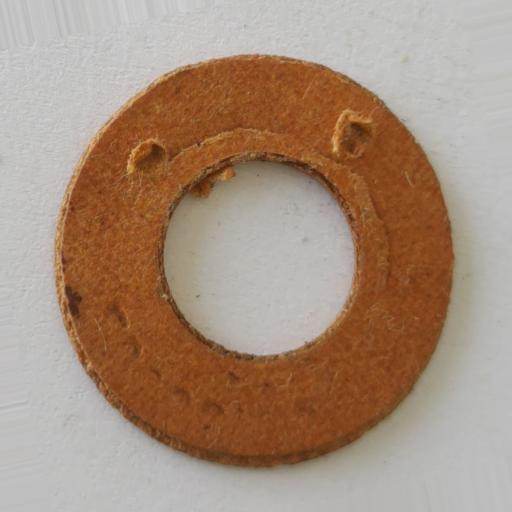defect: (332, 107, 374, 160), (128, 140, 168, 176)
